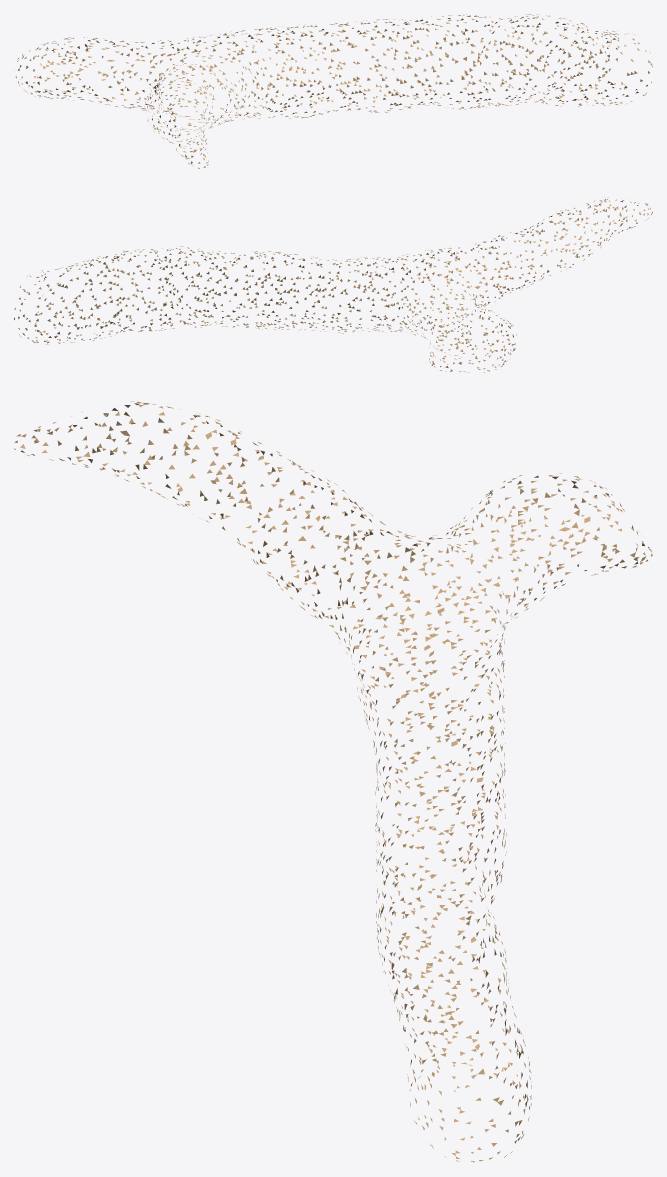
The model's file is morph_006.glb.
3 renders of one model, top to bottom at view 1: azimuth 30°, elevation 25°; view 2: azimuth 150°, elevation 25°; view 3: azimuth 270°, elevation 25°, orthographic. The views are drawn at different scales.
Size of the model in its own units: 120 by 41.96 by 71.84.
